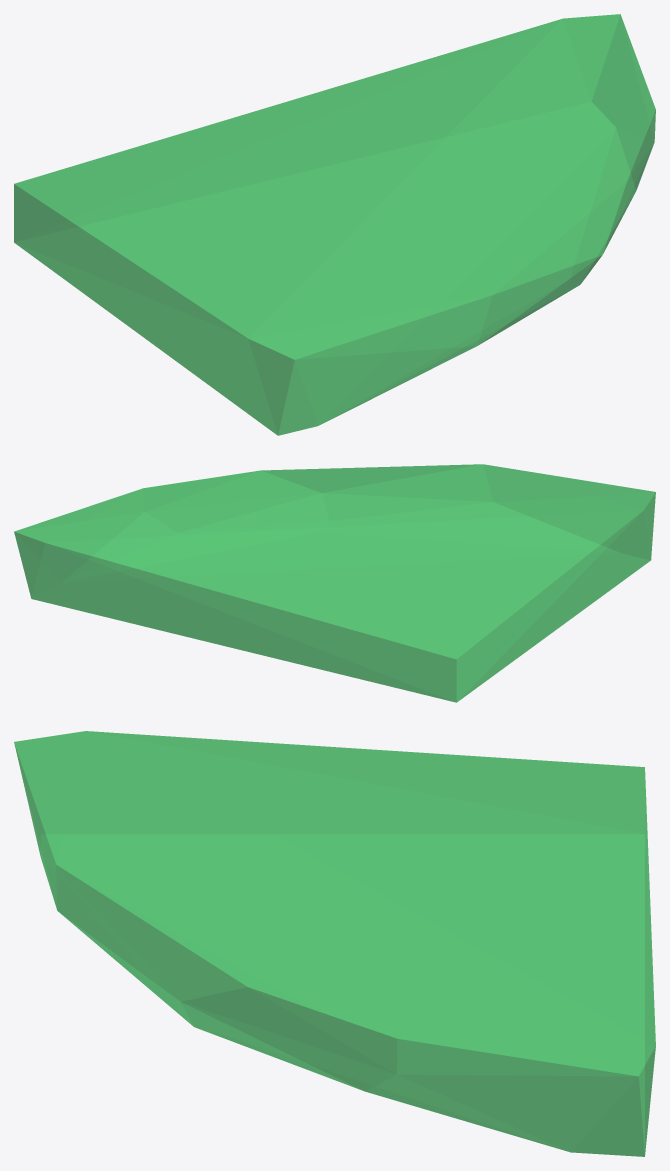
3 views of the same model, one above another, from view 1: azimuth 30°, elevation 25°; view 2: azimuth 150°, elevation 25°; view 3: azimuth 270°, elevation 25° (orthographic). The views are drawn at different scales.
Parts seen in each view (by area): view 1: Shape_IndexedFaceSet.001_Shape_IndexedFaceSet.6408; view 2: Shape_IndexedFaceSet.001_Shape_IndexedFaceSet.6408; view 3: Shape_IndexedFaceSet.001_Shape_IndexedFaceSet.6408.
Part boxes in pixels (x1,y1,x2,y2): Shape_IndexedFaceSet.001_Shape_IndexedFaceSet.6408: [14, 14, 655, 435]; Shape_IndexedFaceSet.001_Shape_IndexedFaceSet.6408: [14, 464, 655, 702]; Shape_IndexedFaceSet.001_Shape_IndexedFaceSet.6408: [14, 731, 655, 1156].
Bounding box in the file's own units: 0.4875 × 0.0648 × 0.3857.
